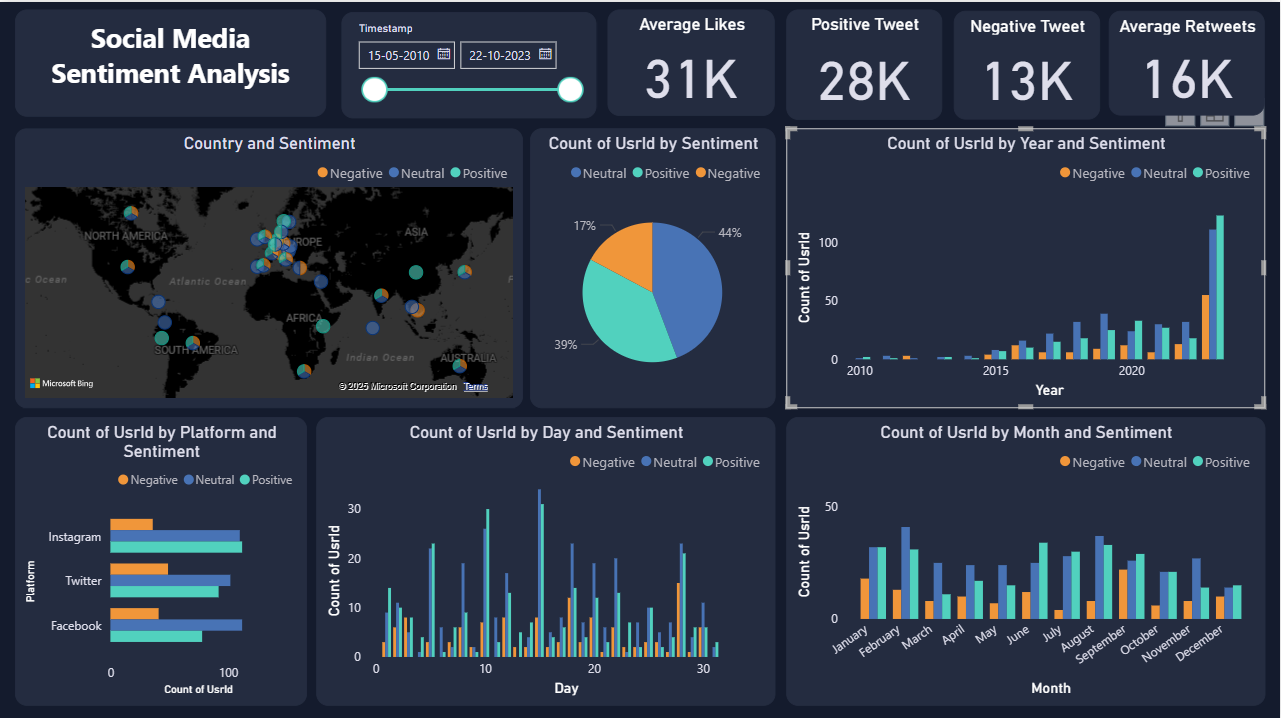

The dashboard page shown, as its layout file describes it:
{"tool":"powerbi","page":{"name":"Page 1","canvas":[1280,720],"ordinal":0},"visuals":[{"type":"pieChart","fields":{"Category":["Updated_cleaned.Sentiment"],"Y":["CountNonNull(Updated_cleaned.UsrId)"]},"box":[530,126.7,245.6,280],"z":0},{"type":"clusteredColumnChart","fields":{"Category":["Updated_cleaned.Timestamp.Variation.Date Hierarchy.Year"],"Y":["CountNonNull(Updated_cleaned.UsrId)"],"Series":["Updated_cleaned.Sentiment"]},"box":[786.7,126.7,478.9,280],"z":1},{"type":"clusteredColumnChart","fields":{"Category":["Updated_cleaned.Timestamp.Variation.Date Hierarchy.Month"],"Y":["CountNonNull(Updated_cleaned.UsrId)"],"Series":["Updated_cleaned.Sentiment"]},"box":[786.7,414.4,478.9,288.9],"z":2},{"type":"clusteredColumnChart","fields":{"Category":["Updated_cleaned.Timestamp.Variation.Date Hierarchy.Day"],"Y":["CountNonNull(Updated_cleaned.UsrId)"],"Series":["Updated_cleaned.Sentiment"]},"box":[316.7,414.4,458.9,288.9],"z":3},{"type":"clusteredBarChart","fields":{"Category":["Updated_cleaned.Platform"],"Series":["Updated_cleaned.Sentiment"],"Y":["CountNonNull(Updated_cleaned.UsrId)"]},"box":[14.4,414.4,292.2,288.9],"z":4},{"type":"map","fields":{"Category":["Updated_cleaned.Country"],"Series":["Updated_cleaned.Sentiment"]},"box":[14.4,126.7,507.8,280],"z":5},{"type":"slicer","fields":{"Values":["Updated_cleaned.Timestamp"]},"box":[340,7.5,255,108.8],"z":6},{"type":"textbox","box":[15,7.5,311.2,107.5],"z":7},{"type":"card","title":"Positive Tweet","fields":{"Values":["Sum(Updated_cleaned.Positive %)"]},"box":[786.2,7.5,156.2,110],"z":8},{"type":"card","title":"Negative Tweet","fields":{"Values":["Sum(Updated_cleaned.Negative Tweet)"]},"box":[953.8,8.8,146.2,108.8],"z":9},{"type":"card","title":"Average Likes","fields":{"Values":["Sum(Updated_cleaned.Average Likes)"]},"box":[607.5,7.5,167.5,106.2],"z":10},{"type":"card","title":"Average Retweets","fields":{"Values":["Sum(Updated_cleaned.Average Retweets)"]},"box":[1108.8,8.8,156.2,105],"z":11}]}

Visuals, with their boxes in screenshot pixels (x1, y1, x2, y2), scaled from the page's 1280x720 canvas onto the 1281x718 screenshot:
pieChart - Updated_cleaned.Sentiment x CountNonNull(Updated_cleaned.UsrId): crop(530, 126, 776, 406)
clusteredColumnChart - Updated_cleaned.Timestamp.Variation.Date Hierarchy.Year x CountNonNull(Updated_cleaned.UsrId): crop(787, 126, 1267, 406)
clusteredColumnChart - Updated_cleaned.Timestamp.Variation.Date Hierarchy.Month x CountNonNull(Updated_cleaned.UsrId): crop(787, 413, 1267, 701)
clusteredColumnChart - Updated_cleaned.Timestamp.Variation.Date Hierarchy.Day x CountNonNull(Updated_cleaned.UsrId): crop(317, 413, 776, 701)
clusteredBarChart - Updated_cleaned.Platform x Updated_cleaned.Sentiment: crop(14, 413, 307, 701)
map - Updated_cleaned.Country x Updated_cleaned.Sentiment: crop(14, 126, 523, 406)
slicer - Updated_cleaned.Timestamp: crop(340, 7, 595, 116)
textbox: crop(15, 7, 326, 115)
"Positive Tweet" card: crop(787, 7, 943, 117)
"Negative Tweet" card: crop(955, 9, 1101, 117)
"Average Likes" card: crop(608, 7, 776, 113)
"Average Retweets" card: crop(1110, 9, 1266, 113)
